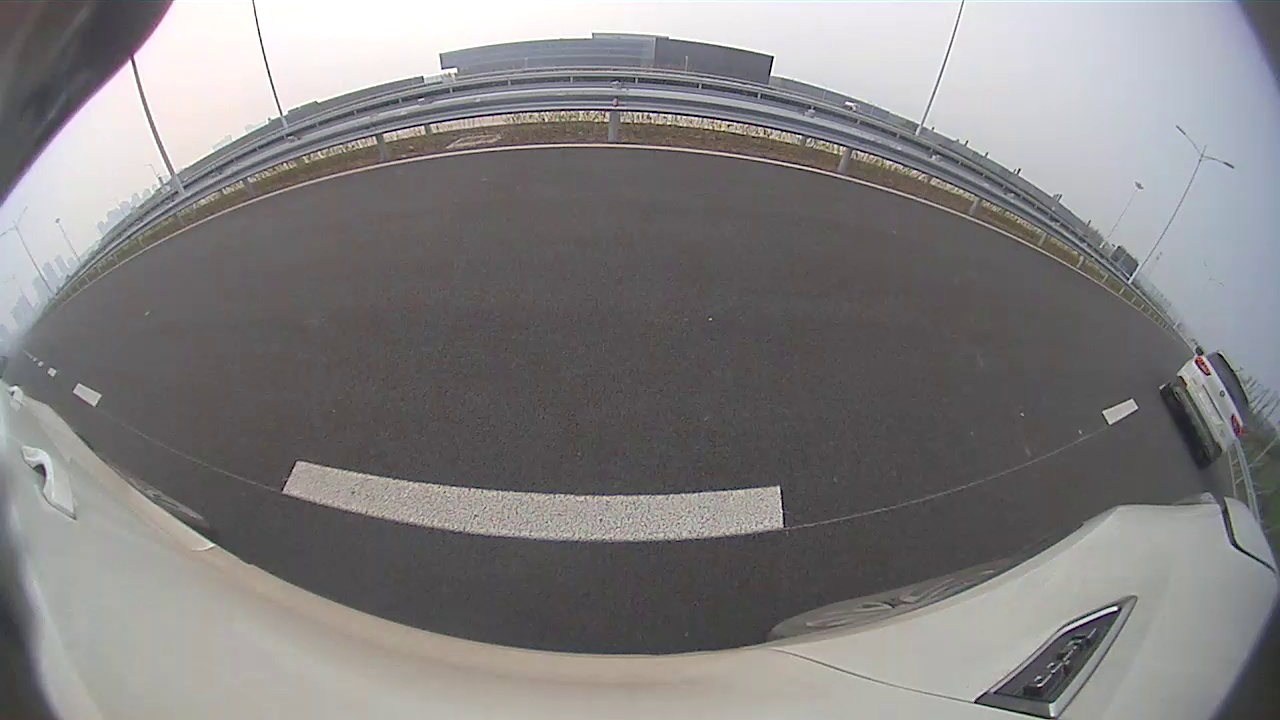car: (717, 45, 1210, 406)
front: (718, 176, 754, 245)
rear: (879, 222, 1023, 385)
